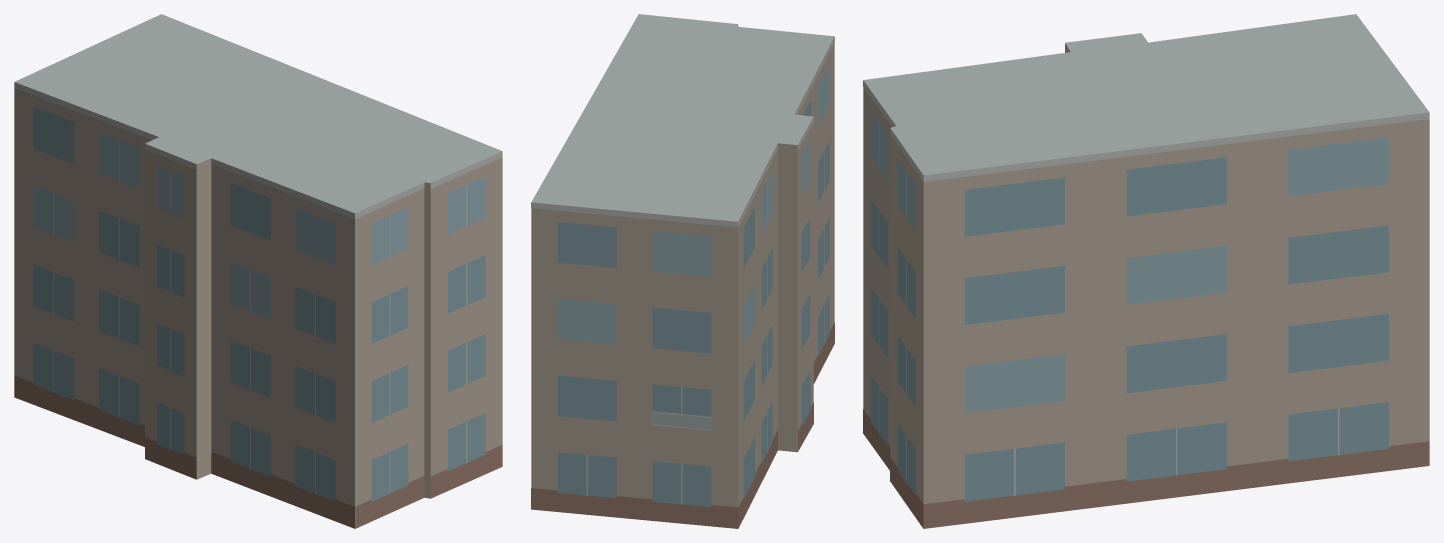
Rendered from survey-upis-32761405.glb.
The picture shows the model from 3 angles, left to right: view 1: azimuth 30°, elevation 25°; view 2: azimuth 150°, elevation 25°; view 3: azimuth 270°, elevation 25°; orthographic projection. The views are drawn at different scales.
Parts seen in each view (by area): view 1: survey-upis-32761405.tmp; view 2: survey-upis-32761405.tmp; view 3: survey-upis-32761405.tmp.
Part boxes in pixels (x1=…): survey-upis-32761405.tmp: x1=14, y1=14, x2=502, y2=528; survey-upis-32761405.tmp: x1=531, y1=14, x2=834, y2=528; survey-upis-32761405.tmp: x1=863, y1=14, x2=1429, y2=528.
Size of the model in its own units: 12.65 by 12.9 by 18.75.
